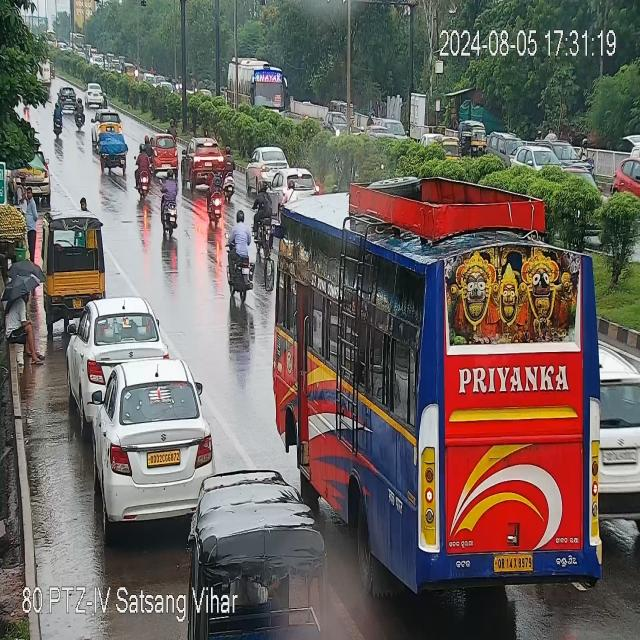2-wheelers: (228, 211, 254, 303), (252, 177, 273, 255), (160, 173, 178, 238), (206, 164, 222, 233), (136, 138, 150, 195), (222, 146, 235, 200), (73, 95, 85, 134), (52, 102, 62, 136), (143, 131, 153, 157), (99, 92, 109, 109), (205, 170, 206, 170)
auto: (194, 475, 323, 577), (40, 214, 107, 314), (97, 122, 133, 180), (460, 116, 485, 152)
bus: (274, 168, 624, 604), (231, 59, 291, 106)
car: (100, 356, 204, 522), (72, 295, 149, 408), (599, 342, 640, 520), (58, 81, 78, 107), (83, 77, 102, 104)
